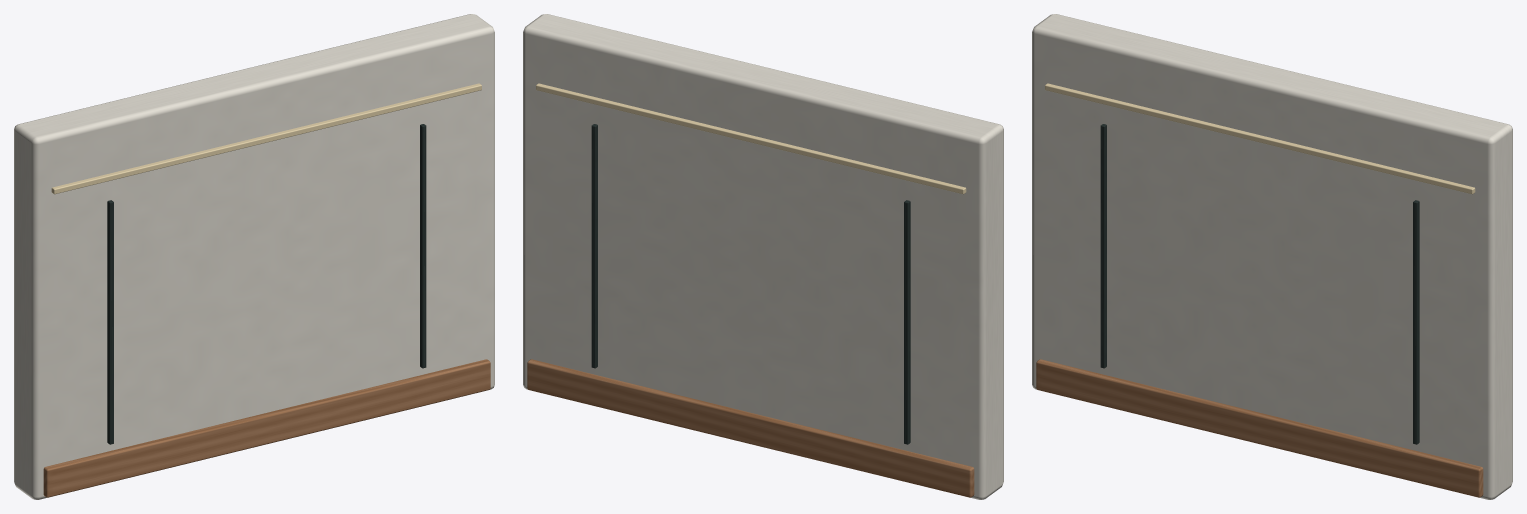
The model's file is wall-solid.glb.
3 renders of one model, left to right at view 1: azimuth 30°, elevation 25°; view 2: azimuth 150°, elevation 25°; view 3: azimuth 330°, elevation 25°, orthographic.
Parts seen in each view (by area): view 1: Wall_Core, Wall_Base_-1, Wall_ShadowLine_-1, Wall_Reveal_-1_1.35, Wall_Reveal_-1_-1.35; view 2: Wall_Core, Wall_Base_1, Wall_ShadowLine_1, Wall_Reveal_1_1.35, Wall_Reveal_1_-1.35; view 3: Wall_Core, Wall_Base_-1, Wall_ShadowLine_-1, Wall_Reveal_-1_1.35, Wall_Reveal_-1_-1.35.
Part boxes in pixels (x1,y1,x2,y2): Wall_Core: (14, 14, 494, 499); Wall_Base_-1: (43, 359, 490, 497); Wall_ShadowLine_-1: (51, 83, 481, 194); Wall_Reveal_-1_1.35: (420, 124, 426, 368); Wall_Reveal_-1_-1.35: (107, 200, 113, 444); Wall_Core: (523, 14, 1003, 499); Wall_Base_1: (527, 359, 974, 497); Wall_ShadowLine_1: (536, 83, 966, 194); Wall_Reveal_1_1.35: (591, 124, 597, 368); Wall_Reveal_1_-1.35: (904, 200, 910, 444); Wall_Core: (1032, 14, 1512, 499); Wall_Base_-1: (1036, 359, 1483, 497); Wall_ShadowLine_-1: (1045, 83, 1475, 194); Wall_Reveal_-1_1.35: (1413, 200, 1419, 444); Wall_Reveal_-1_-1.35: (1100, 124, 1106, 368).
Bounding box in the file's own units: 4 × 3 × 0.44.
Materials: 4 (3 with a texture image).
